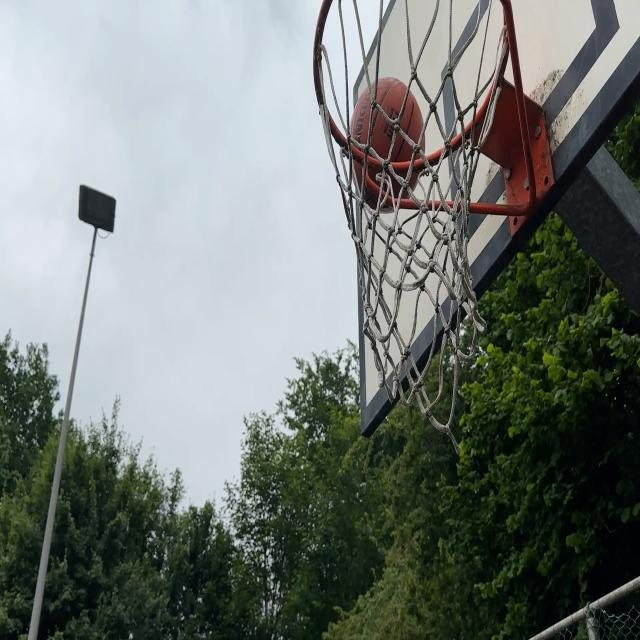rebound_hit: (353, 74, 426, 212)
